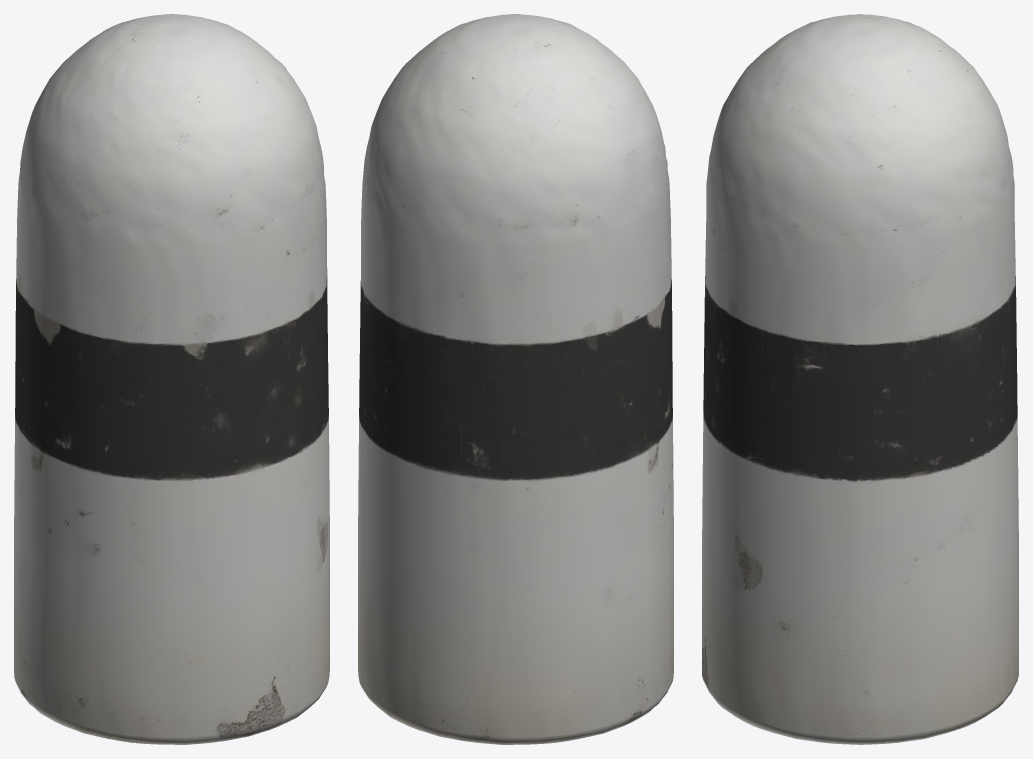
File: original_glb.glb
The picture shows the model from 3 angles, left to right: view 1: azimuth 30°, elevation 25°; view 2: azimuth 150°, elevation 25°; view 3: azimuth 270°, elevation 25°; orthographic projection.
Visible parts, largest first — view 1: guard stone; view 2: guard stone; view 3: guard stone.
Boxes of the visible parts, x1,y1,x2,y2 form: guard stone: (14, 14, 329, 744); guard stone: (358, 14, 673, 744); guard stone: (702, 14, 1018, 744).
Bounding box in the file's own units: 0.4395 × 0.998 × 0.4395.
Materials: 1 (1 with a texture image).
